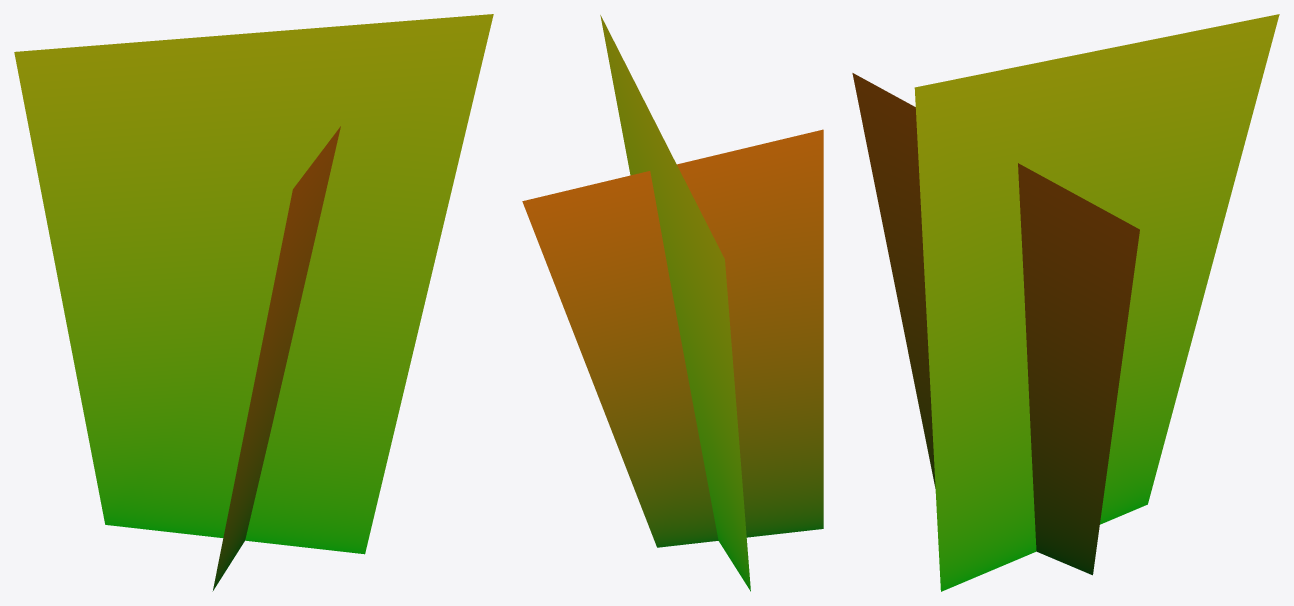
Rendered from Var5_LOD2.fbx.
3 views of the same model, side by side, from view 1: azimuth 30°, elevation 25°; view 2: azimuth 150°, elevation 25°; view 3: azimuth 270°, elevation 25° (orthographic). The views are drawn at different scales.
Visible parts, largest first — view 1: _dbe7_Var5_LOD2; view 2: _dbe7_Var5_LOD2; view 3: _dbe7_Var5_LOD2.
Part boxes in pixels (bbox=[...]): _dbe7_Var5_LOD2: bbox=[14, 14, 493, 591]; _dbe7_Var5_LOD2: bbox=[522, 15, 823, 591]; _dbe7_Var5_LOD2: bbox=[852, 14, 1279, 591].
Bounding box in the file's own units: 16.27 × 25.95 × 17.75.
